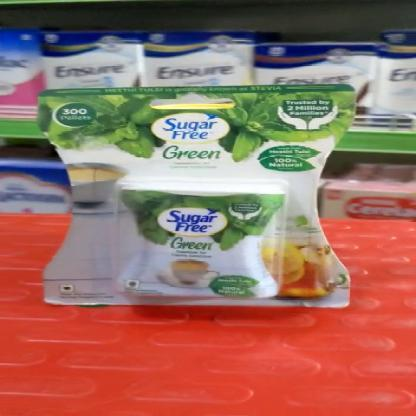SUGAR FREE GRN 300 PELLET: (40, 83, 352, 306)
